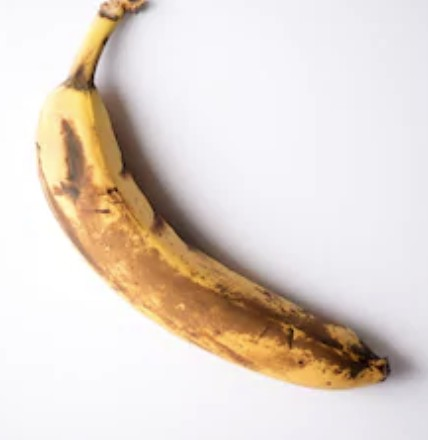rotten_banana: (35, 1, 392, 391)
